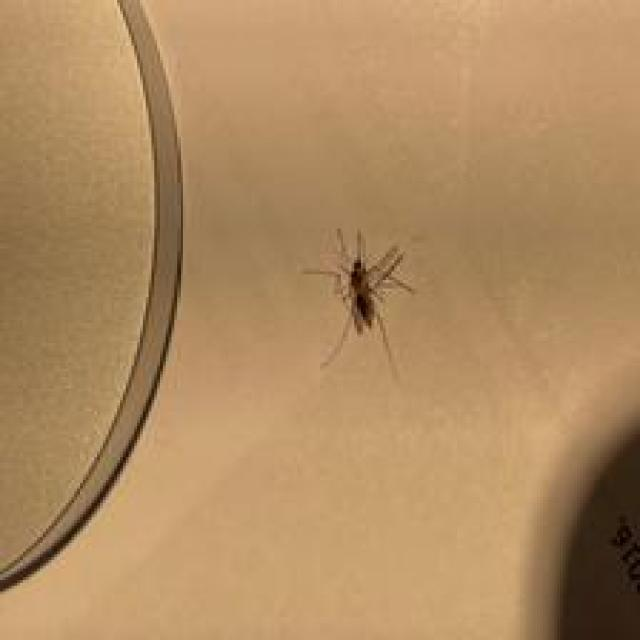Culex: (301, 226, 416, 380)
